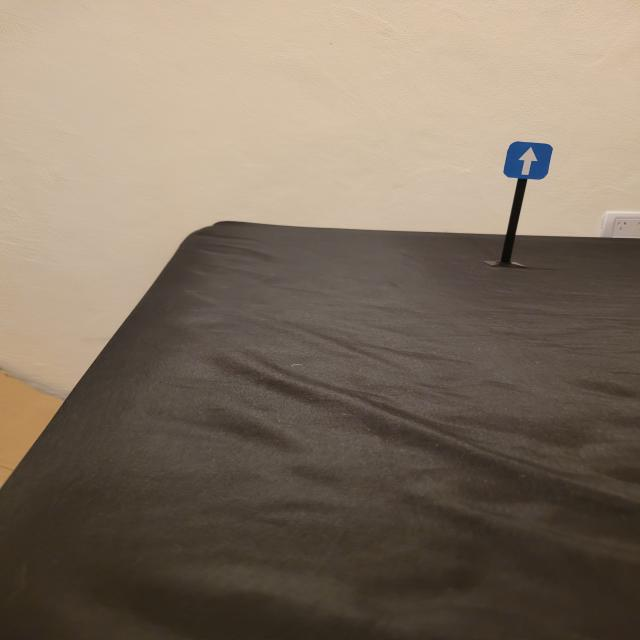one_way: (504, 141, 553, 180)
